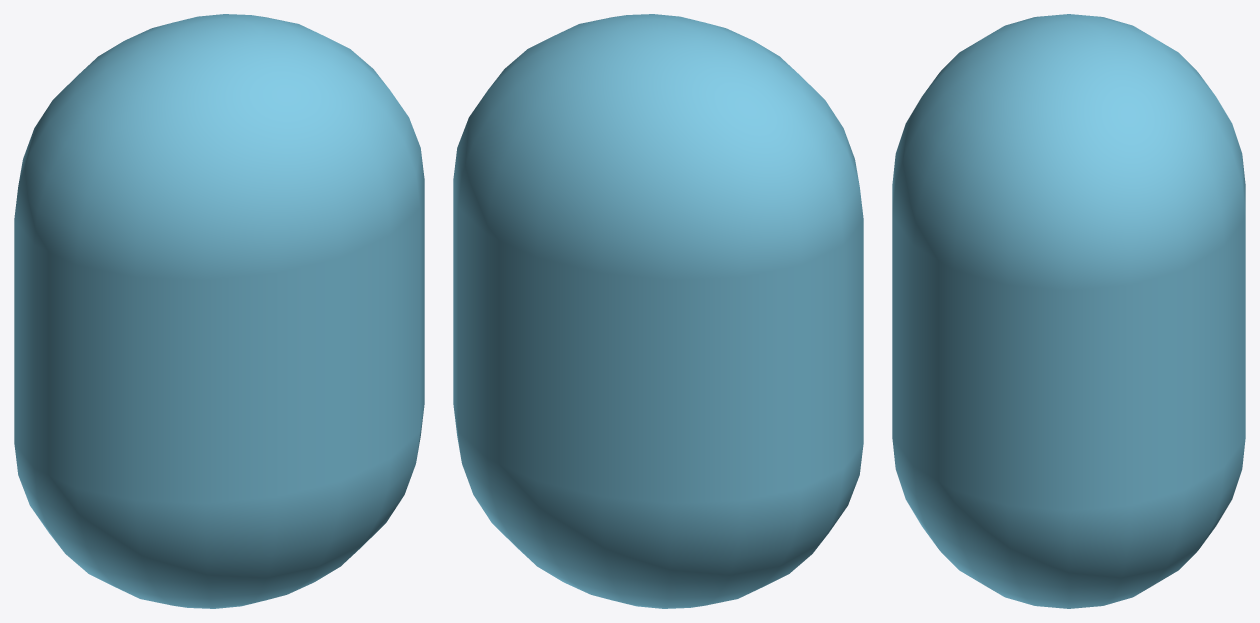
The model's file is torso_fancy.glb.
The picture shows the model from 3 angles, left to right: view 1: azimuth 30°, elevation 25°; view 2: azimuth 150°, elevation 25°; view 3: azimuth 270°, elevation 25°; orthographic projection.
Visible parts, largest first — view 1: Torso; view 2: Torso; view 3: Torso.
Boxes of the visible parts, <box> form: Torso: <box>14,14,424,608</box>; Torso: <box>453,14,863,608</box>; Torso: <box>892,14,1245,608</box>.
Size of the model in its own units: 13.2 by 19.03 by 11.05.
